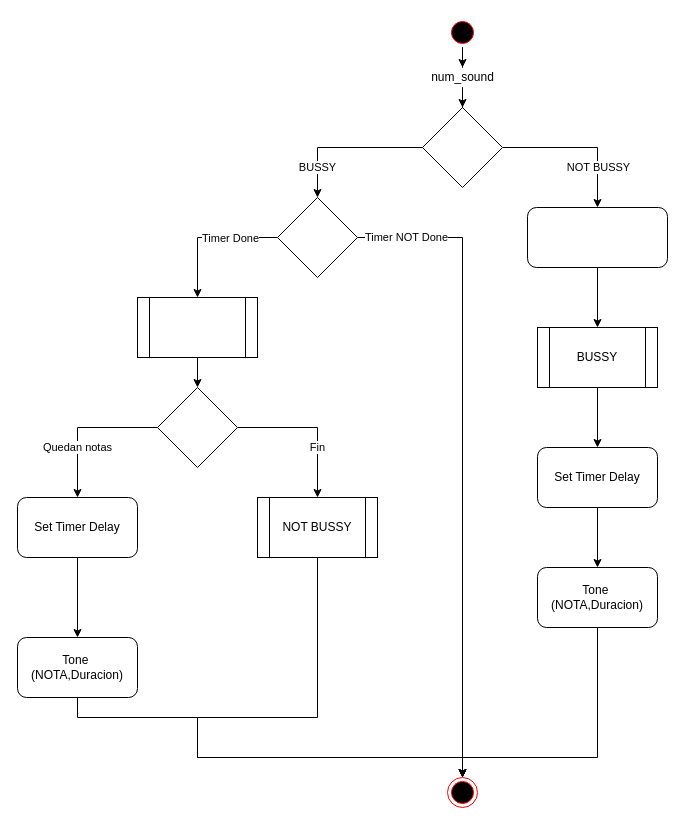
Some shapes in this 685 by 825 pixel diagram are drawn without their labels. Each missing label, with the box of its shape:
getSound(num_sound): (526, 206, 668, 268)
siguiente nota: (136, 296, 258, 358)
